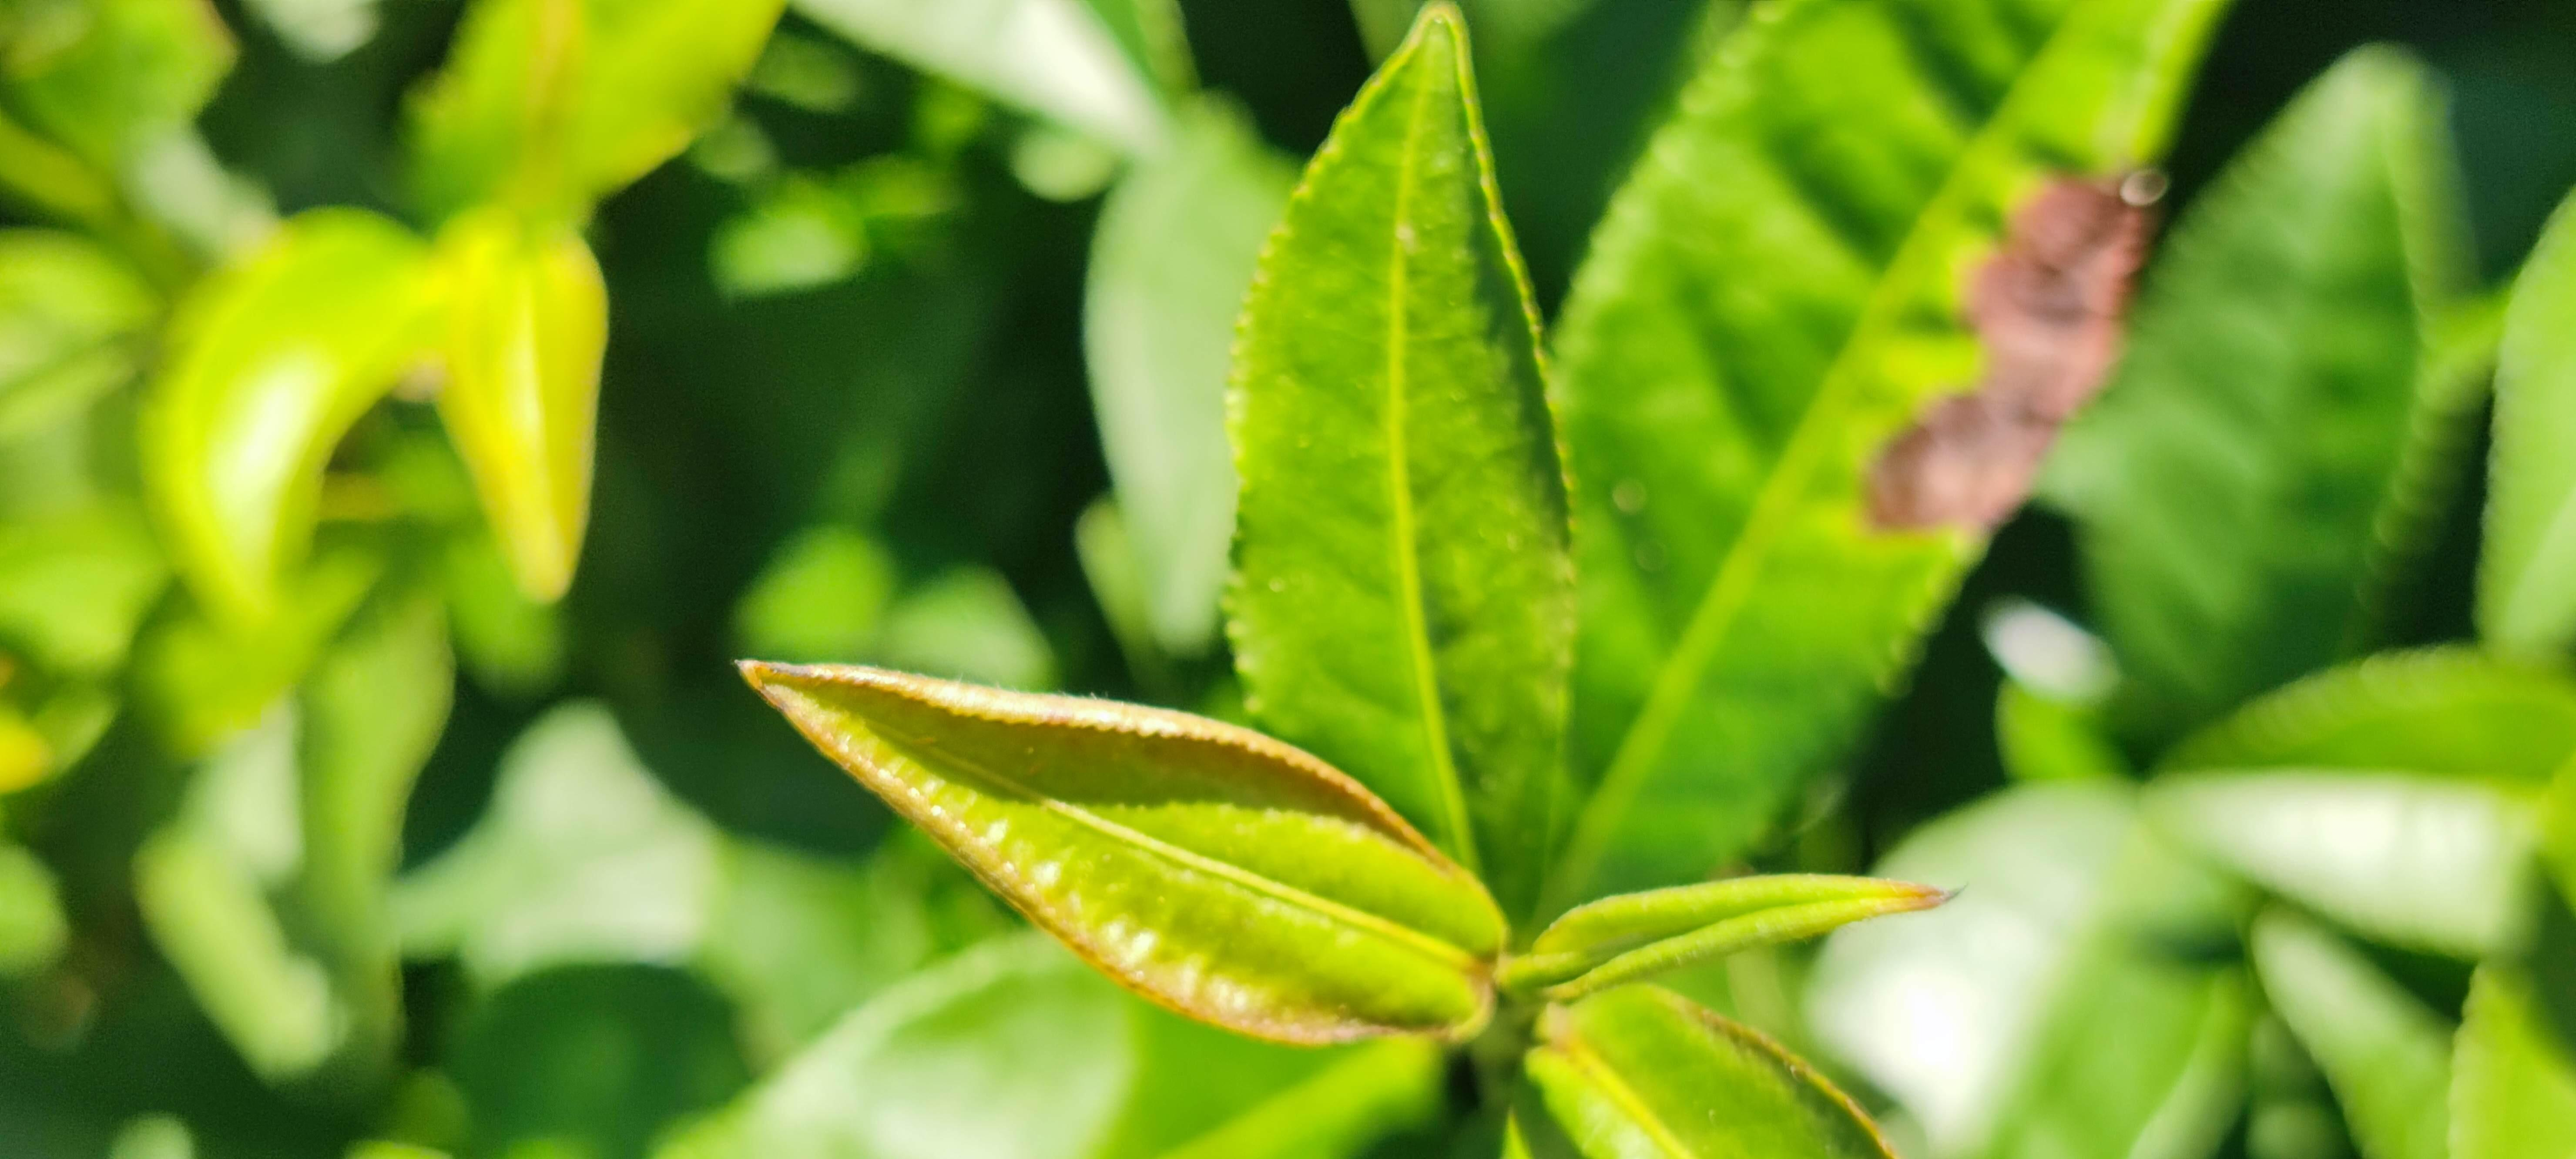healthy: (1207, 8, 1577, 921)
tanju_high: (1543, 5, 2226, 880)
tanju_low: (729, 657, 1511, 1052), (1505, 980, 1899, 1154)
